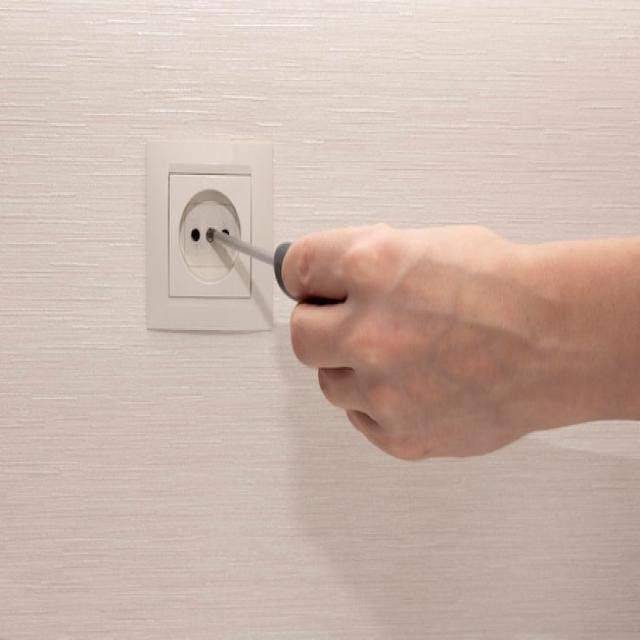typeb: (114, 98, 305, 430)
